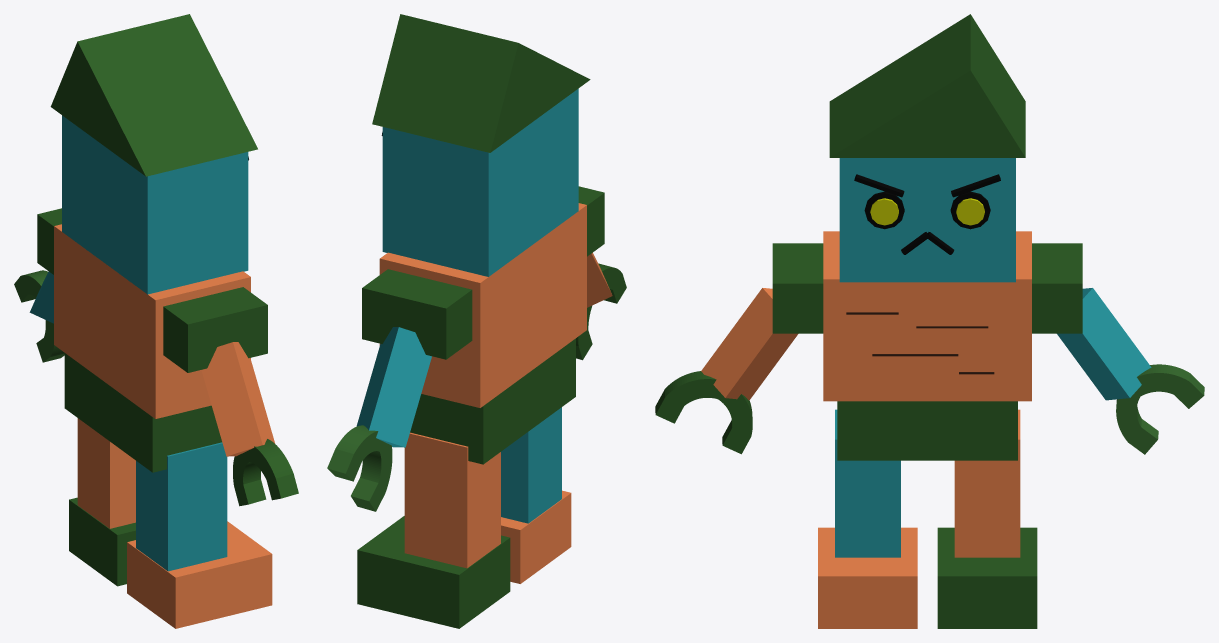
The model's file is boss.obj.
The picture shows the model from 3 angles, left to right: view 1: azimuth 30°, elevation 25°; view 2: azimuth 150°, elevation 25°; view 3: azimuth 270°, elevation 25°; orthographic projection. The views are drawn at different scales.
Parts seen in each view (by area): view 1: R_eyebrow.008, R_eyebrow.027, R_eyebrow.025; view 2: R_eyebrow.008, R_eyebrow.025, R_eyebrow.027; view 3: R_eyebrow.008, R_eyebrow.025, R_eyebrow.027.
Part boxes in pixels (x1,y1,x2,y2): R_eyebrow.008: (14,14,298,628); R_eyebrow.027: (233,451,266,506); R_eyebrow.025: (36,320,64,362); R_eyebrow.008: (327,14,626,628); R_eyebrow.025: (351,442,392,511); R_eyebrow.027: (576,306,592,360); R_eyebrow.008: (655,14,1204,628); R_eyebrow.025: (1116,388,1158,454); R_eyebrow.027: (712,390,752,454).
Bounding box in the file's own units: 1.4 × 5.99 × 5.38.
